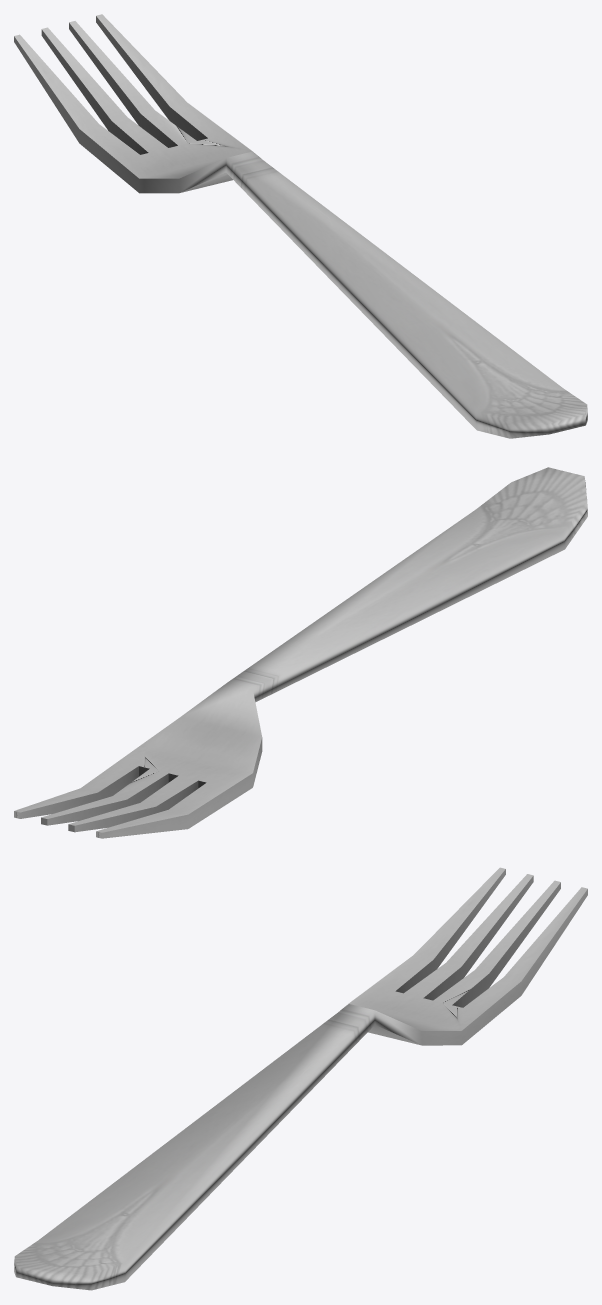
The model's file is ForkBig.fbx.
The picture shows the model from 3 angles, top to bottom: view 1: azimuth 30°, elevation 25°; view 2: azimuth 150°, elevation 25°; view 3: azimuth 330°, elevation 25°; orthographic projection.
Visible parts, largest first — view 1: Default_Layer; view 2: Default_Layer; view 3: Default_Layer.
Part boxes in pixels (<box>): Default_Layer: <box>14,14,587,438</box>; Default_Layer: <box>14,467,587,838</box>; Default_Layer: <box>14,867,587,1290</box>.
Bounding box in the file's own units: 6.36 × 3.15 × 49.72.
